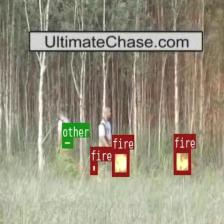fire: (111, 149, 129, 175), (173, 148, 191, 173), (90, 161, 97, 174)
